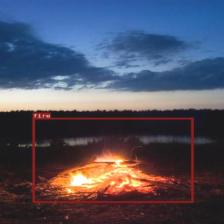fire: (32, 118, 193, 202)
